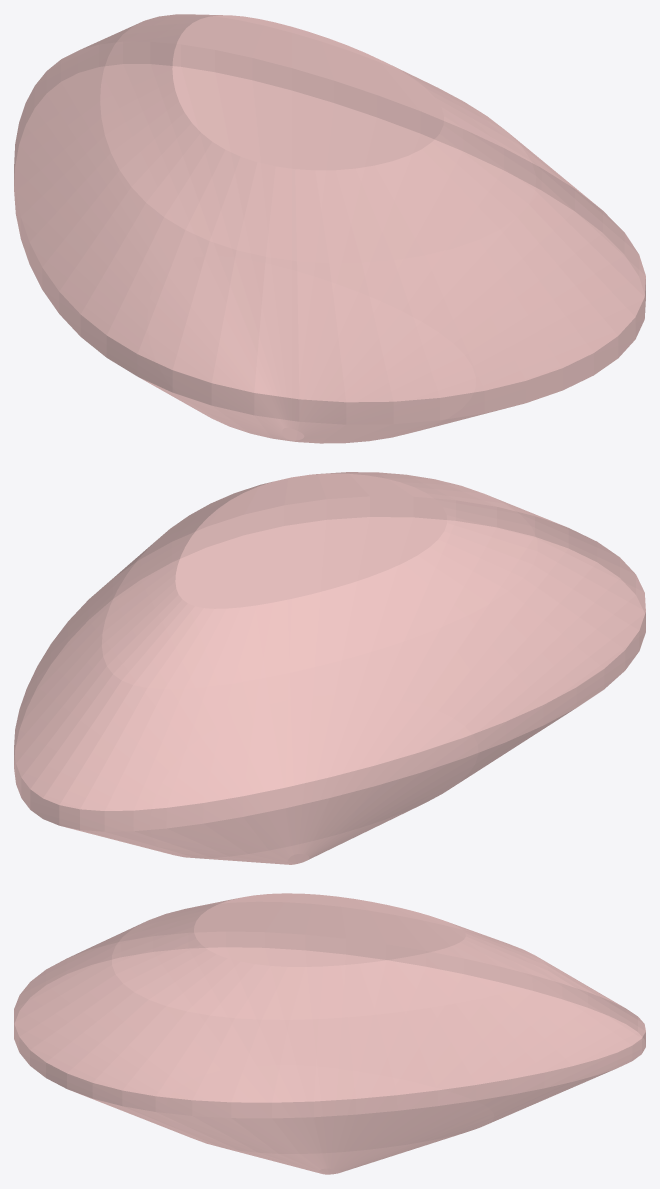
Rendered from stone-morganite.glb.
3 views of the same model, one above another, from view 1: azimuth 30°, elevation 25°; view 2: azimuth 150°, elevation 25°; view 3: azimuth 270°, elevation 25° (orthographic). The views are drawn at different scales.
Parts seen in each view (by area): view 1: Sculpture; view 2: Sculpture; view 3: Sculpture.
Boxes of the visible parts, box(x1,y1,x2,y2) form: Sculpture: box(14, 14, 645, 443); Sculpture: box(14, 472, 645, 864); Sculpture: box(14, 893, 645, 1174).
Bounding box in the file's own units: 1.64 × 1.07 × 2.55.
